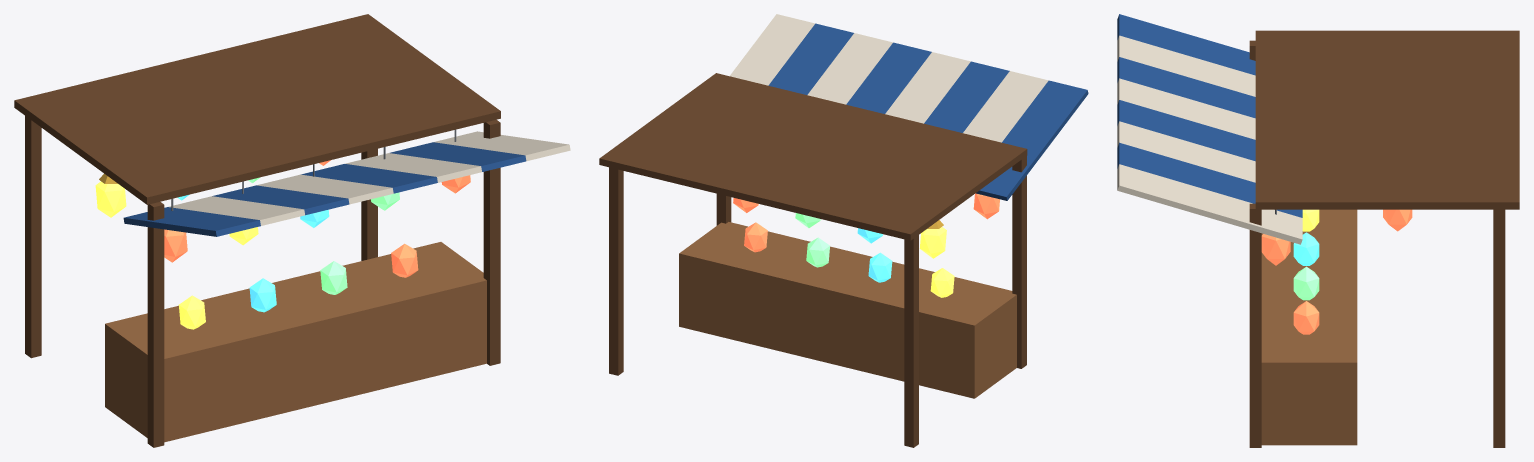
The model's file is basar_lyktor.glb.
3 renders of one model, left to right at view 1: azimuth 30°, elevation 25°; view 2: azimuth 150°, elevation 25°; view 3: azimuth 270°, elevation 25°, orthographic. The views are drawn at different scales.
Parts seen in each view (by area): view 1: basar_lyktor; view 2: basar_lyktor; view 3: basar_lyktor.
Part boxes in pixels (<box>): basar_lyktor: <box>14,14,570,447</box>; basar_lyktor: <box>599,14,1088,447</box>; basar_lyktor: <box>1117,14,1519,447</box>.
Size of the model in its own units: 4 by 2.87 by 3.96.
